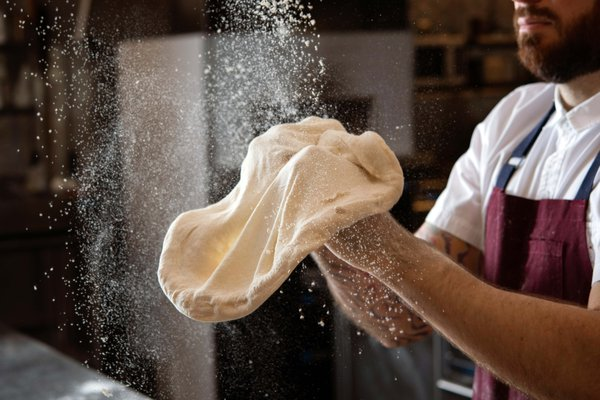pizza: (318, 3, 599, 394), (412, 1, 599, 392)
